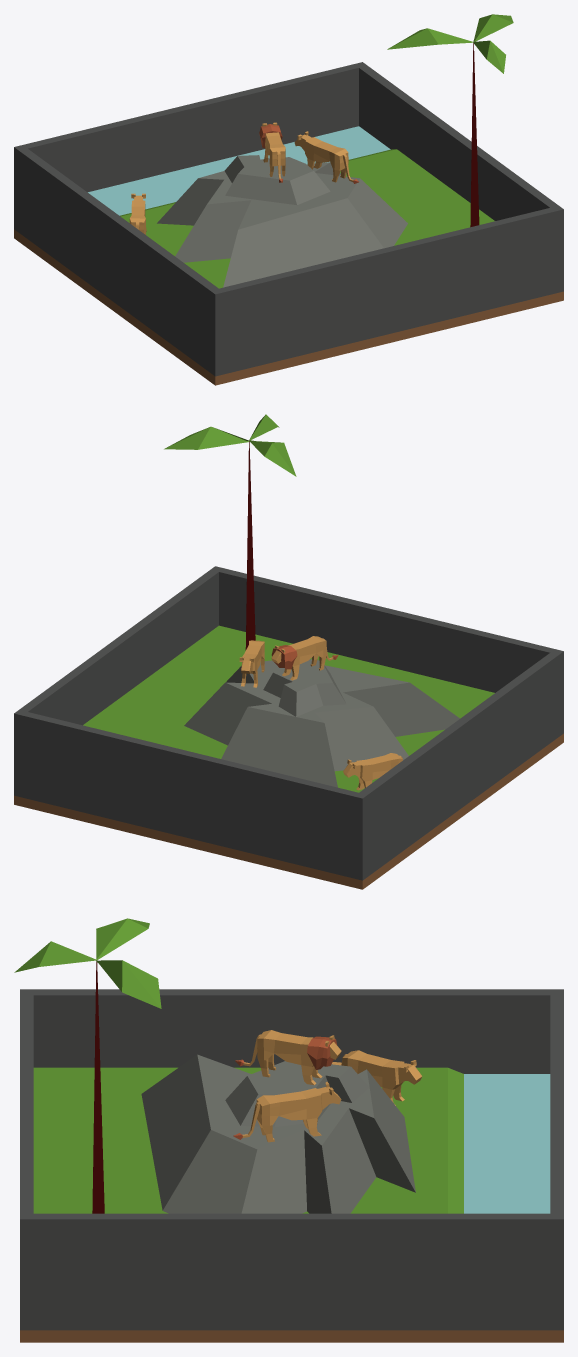
File: lion_cage_4x4.fbx
3 renders of one model, top to bottom at view 1: azimuth 30°, elevation 25°; view 2: azimuth 150°, elevation 25°; view 3: azimuth 270°, elevation 25°, orthographic. The views are drawn at different scales.
Visible parts, largest first — view 1: Cage, Lion_2, Lion_1, Lion_3; view 2: Cage, Lion_1, Lion_3, Lion_2; view 3: Cage, Lion_1, Lion_2, Lion_3.
Part boxes in pixels (<box>): Cage: <box>14,14,563,385</box>; Lion_2: <box>294,131,358,183</box>; Lion_1: <box>259,122,285,182</box>; Lion_3: <box>129,193,146,234</box>; Cage: <box>14,414,563,889</box>; Lion_1: <box>271,636,338,680</box>; Lion_3: <box>343,753,402,790</box>; Lion_2: <box>239,640,264,687</box>; Cage: <box>14,918,563,1342</box>; Lion_1: <box>235,1030,341,1085</box>; Lion_2: <box>233,1081,341,1142</box>; Lion_3: <box>341,1050,422,1105</box>.
Size of the model in its own units: 400 by 292 by 404.
